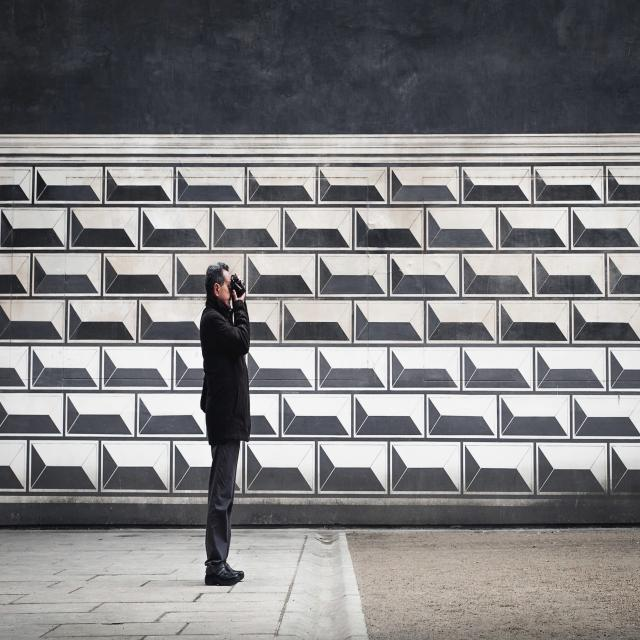adult: (199, 260, 251, 587)
